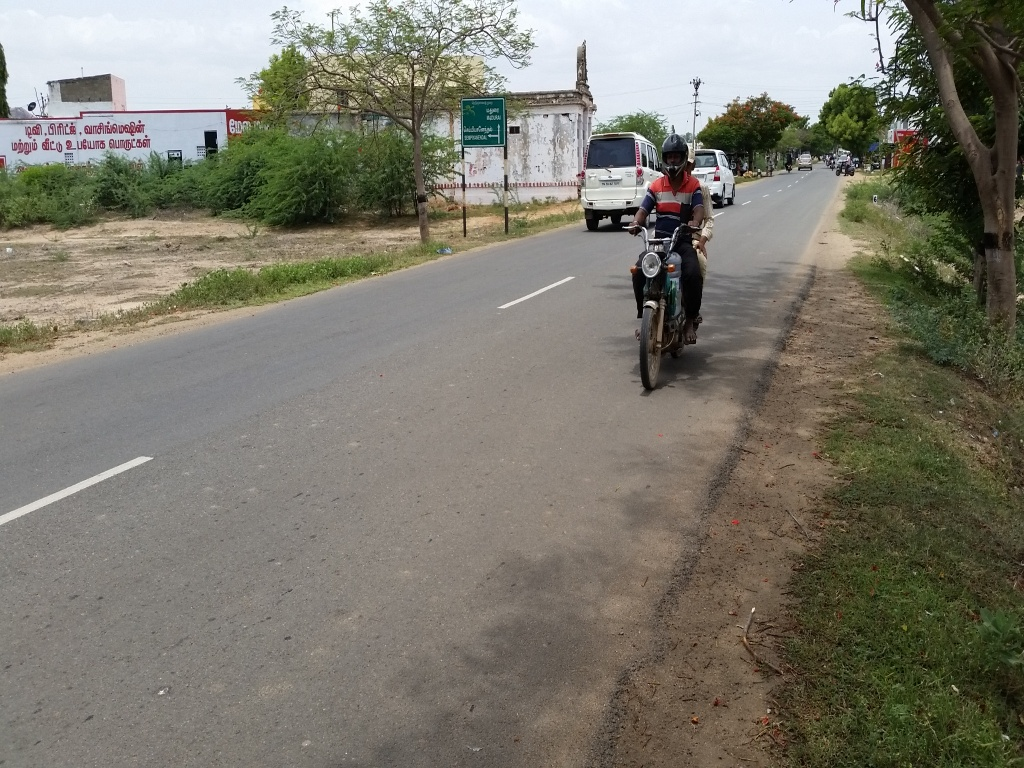biker: (596, 113, 735, 404)
helmet: (657, 129, 688, 185)
nohelmet: (688, 142, 700, 182)
